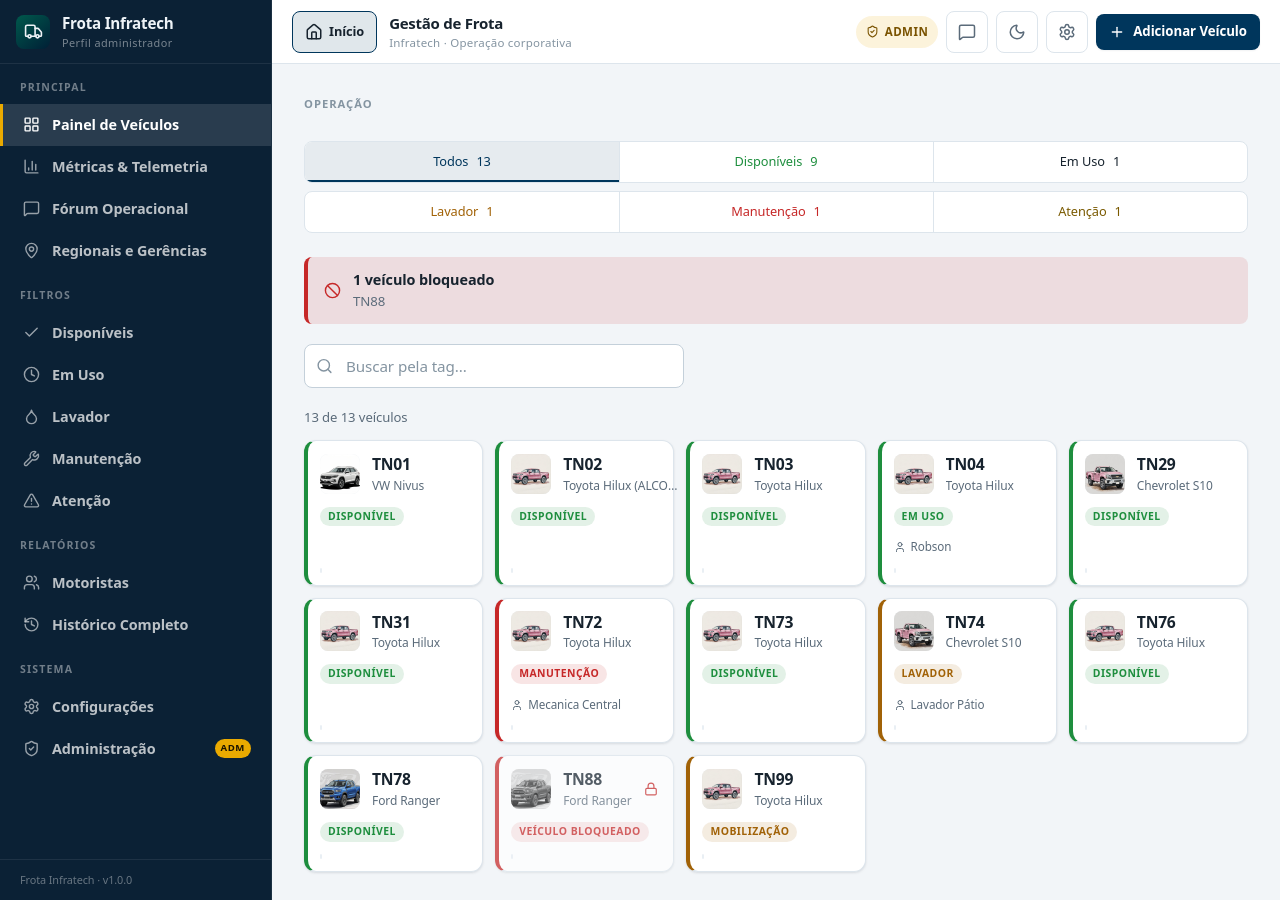
Test: Aplicação — administrador › percorre a área administrativa
The image size is (1280, 900).
Expected: the text "Admin" is shown, [885,23,928,40]
Step 1. Click the button "Administração ADM" → (136, 748), box [0,727,271,769]
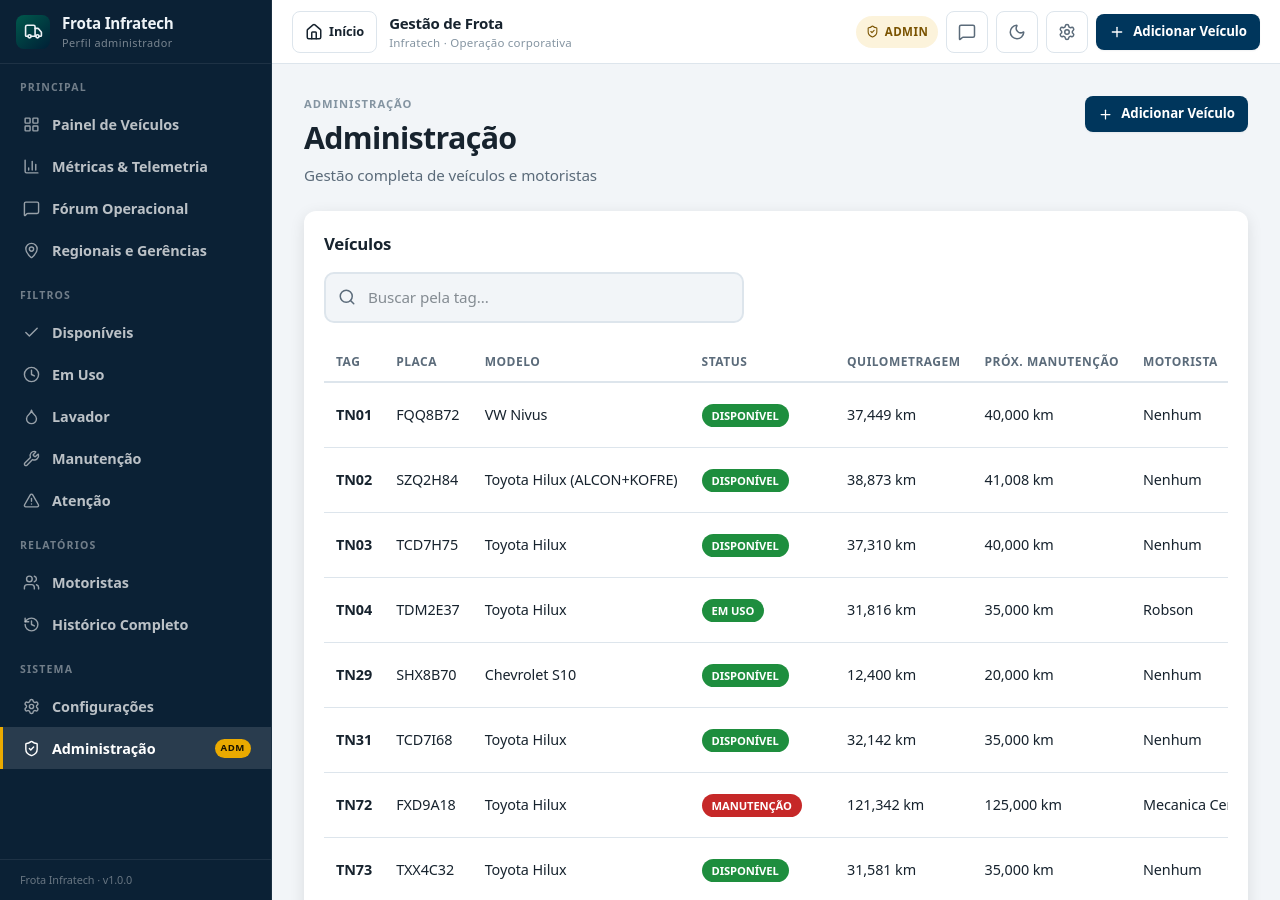
Expected: the text "TN01" is shown, [324,382,384,447]
Expected: the heading "Administração" is shown, [304,117,516,158]
